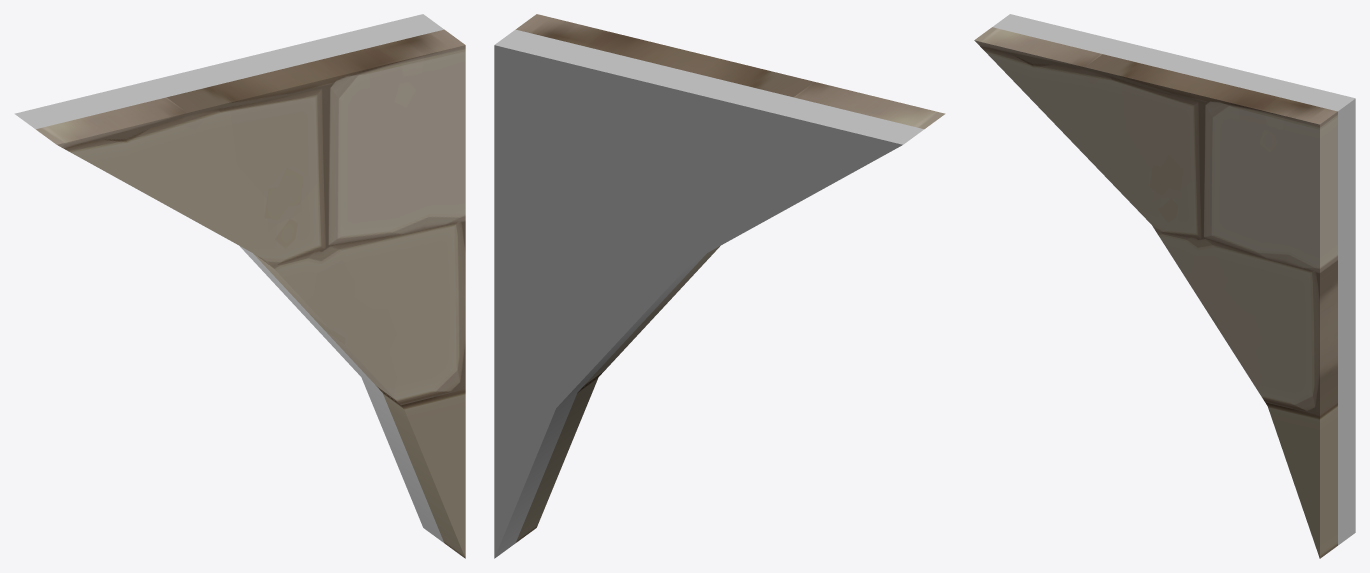
File: SM_Bld_Wall_End_Convex_Small_Inverted_01.fbx
3 views of the same model, side by side, from view 1: azimuth 30°, elevation 25°; view 2: azimuth 150°, elevation 25°; view 3: azimuth 330°, elevation 25° (orthographic). The views are drawn at different scales.
Parts seen in each view (by area): view 1: SM_Bld_Wall_End_Convex_Small_Inverted_01; view 2: SM_Bld_Wall_End_Convex_Small_Inverted_01; view 3: SM_Bld_Wall_End_Convex_Small_Inverted_01.
Part boxes in pixels (box(x1,y1,x2,y2)): SM_Bld_Wall_End_Convex_Small_Inverted_01: box(14, 14, 465, 558); SM_Bld_Wall_End_Convex_Small_Inverted_01: box(494, 14, 945, 558); SM_Bld_Wall_End_Convex_Small_Inverted_01: box(974, 14, 1355, 558).
Size of the model in its own units: 125 by 150 by 22.5.
